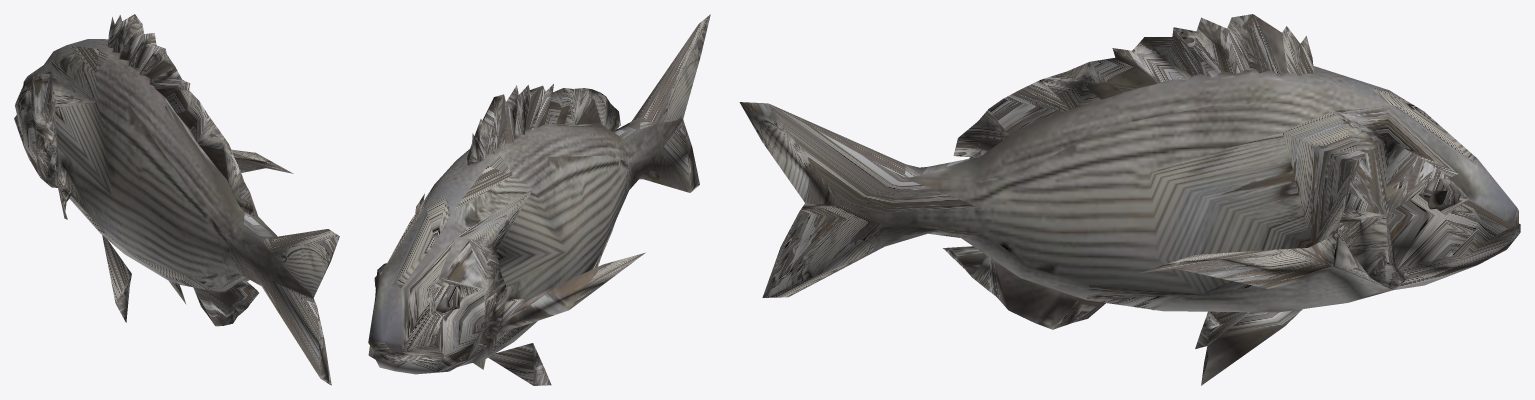
The model's file is zeebrasem-ver.glb.
3 views of the same model, side by side, from view 1: azimuth 30°, elevation 25°; view 2: azimuth 150°, elevation 25°; view 3: azimuth 270°, elevation 25° (orthographic). The views are drawn at different scales.
Parts seen in each view (by area): view 1: tripo_node_47193a3c-62cf-4fe2-aea1-b713db1a505e; view 2: tripo_node_47193a3c-62cf-4fe2-aea1-b713db1a505e; view 3: tripo_node_47193a3c-62cf-4fe2-aea1-b713db1a505e.
Part boxes in pixels (x1,y1,x2,y2): tripo_node_47193a3c-62cf-4fe2-aea1-b713db1a505e: [14, 14, 339, 385]; tripo_node_47193a3c-62cf-4fe2-aea1-b713db1a505e: [368, 14, 710, 385]; tripo_node_47193a3c-62cf-4fe2-aea1-b713db1a505e: [739, 14, 1520, 385].
Size of the model in its own units: 0.2405 by 0.2988 by 0.5965.
1 material, 1 textured.
